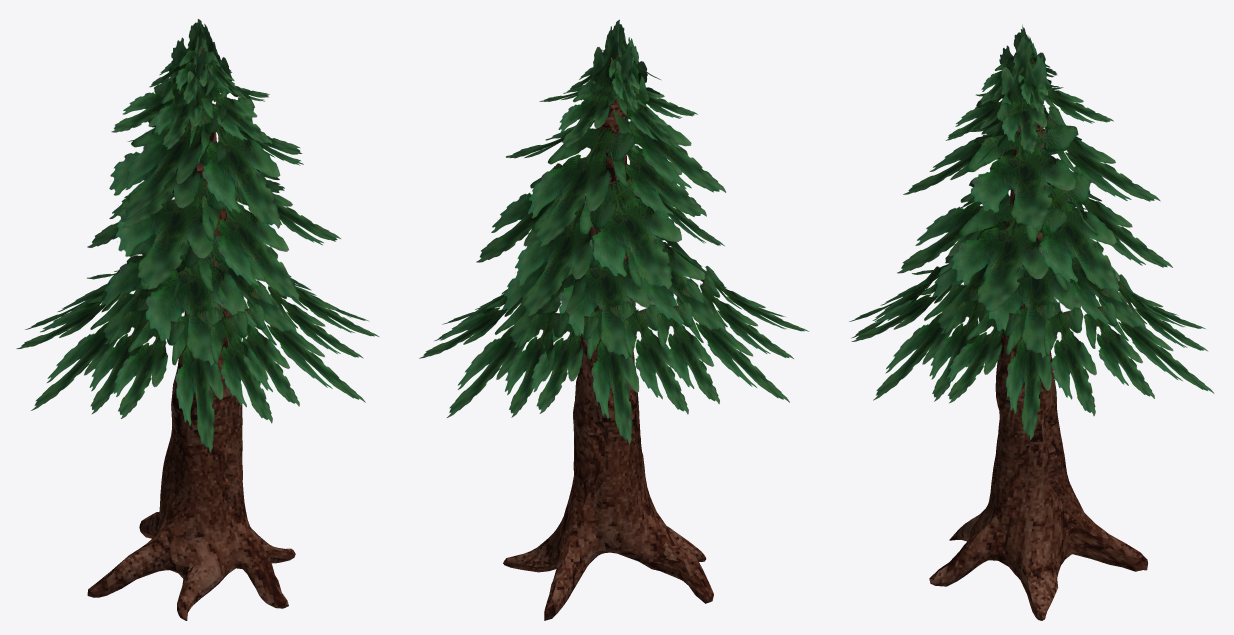
Rendered from pinetree_cut.glb.
3 renders of one model, left to right at view 1: azimuth 30°, elevation 25°; view 2: azimuth 150°, elevation 25°; view 3: azimuth 270°, elevation 25°, orthographic. The views are drawn at different scales.
Visible parts, largest first — view 1: bigleaf.002, Cube.001, bigleaf.004, bigleaf, Cube, pineleaf.002, pineleaf.010, pineleaf.001, pineleaf.003, pineleaf.011, pineleaf.014, pineleaf.015 (+10 smaller); view 2: bigleaf.005, Cube.001, bigleaf.004, bigleaf.003, Cube, pineleaf.008, pineleaf.004, pineleaf.007, pineleaf.003, pineleaf.011, pineleaf.006, pineleaf.017 (+7 smaller); view 3: Cube.001, bigleaf.001, bigleaf.003, bigleaf, Cube, pineleaf.009, pineleaf.005, pineleaf.006, pineleaf.008, pineleaf.001, pineleaf.024, pineleaf.007 (+8 smaller).
Boxes of the visible parts, x1,y1,x2,y2 form: bigleaf.002: [113, 235, 272, 452]; Cube.001: [87, 485, 295, 620]; bigleaf.004: [16, 234, 200, 414]; bigleaf: [198, 256, 365, 406]; Cube: [161, 48, 243, 503]; pineleaf.002: [115, 175, 238, 289]; pineleaf.010: [189, 97, 281, 228]; pineleaf.001: [201, 180, 299, 300]; pineleaf.003: [123, 103, 227, 219]; pineleaf.011: [109, 127, 227, 227]; pineleaf.014: [201, 83, 272, 144]; pineleaf.015: [154, 79, 214, 149]; bigleaf.005: [531, 235, 688, 444]; Cube.001: [503, 484, 713, 620]; bigleaf.004: [626, 216, 793, 403]; bigleaf.003: [419, 249, 599, 417]; Cube: [571, 54, 646, 504]; pineleaf.008: [528, 128, 634, 246]; pineleaf.004: [579, 178, 681, 289]; pineleaf.007: [514, 194, 616, 316]; pineleaf.003: [613, 101, 725, 192]; pineleaf.011: [610, 120, 706, 216]; pineleaf.006: [476, 163, 562, 262]; pineleaf.017: [576, 19, 632, 106]; Cube.001: [929, 480, 1147, 620]; bigleaf.001: [947, 234, 1096, 440]; bigleaf.003: [1055, 258, 1214, 398]; bigleaf: [851, 222, 1006, 401]; Cube: [992, 61, 1069, 495]; pineleaf.009: [967, 125, 1078, 228]; pineleaf.005: [951, 203, 1067, 311]; pineleaf.006: [1026, 174, 1119, 291]; pineleaf.008: [1045, 106, 1160, 201]; pineleaf.001: [897, 193, 1010, 273]; pineleaf.024: [997, 35, 1046, 121]; pineleaf.007: [1071, 166, 1172, 267].
Size of the model in its own units: 3.08 by 4.81 by 3.
50 materials, 50 textured.
